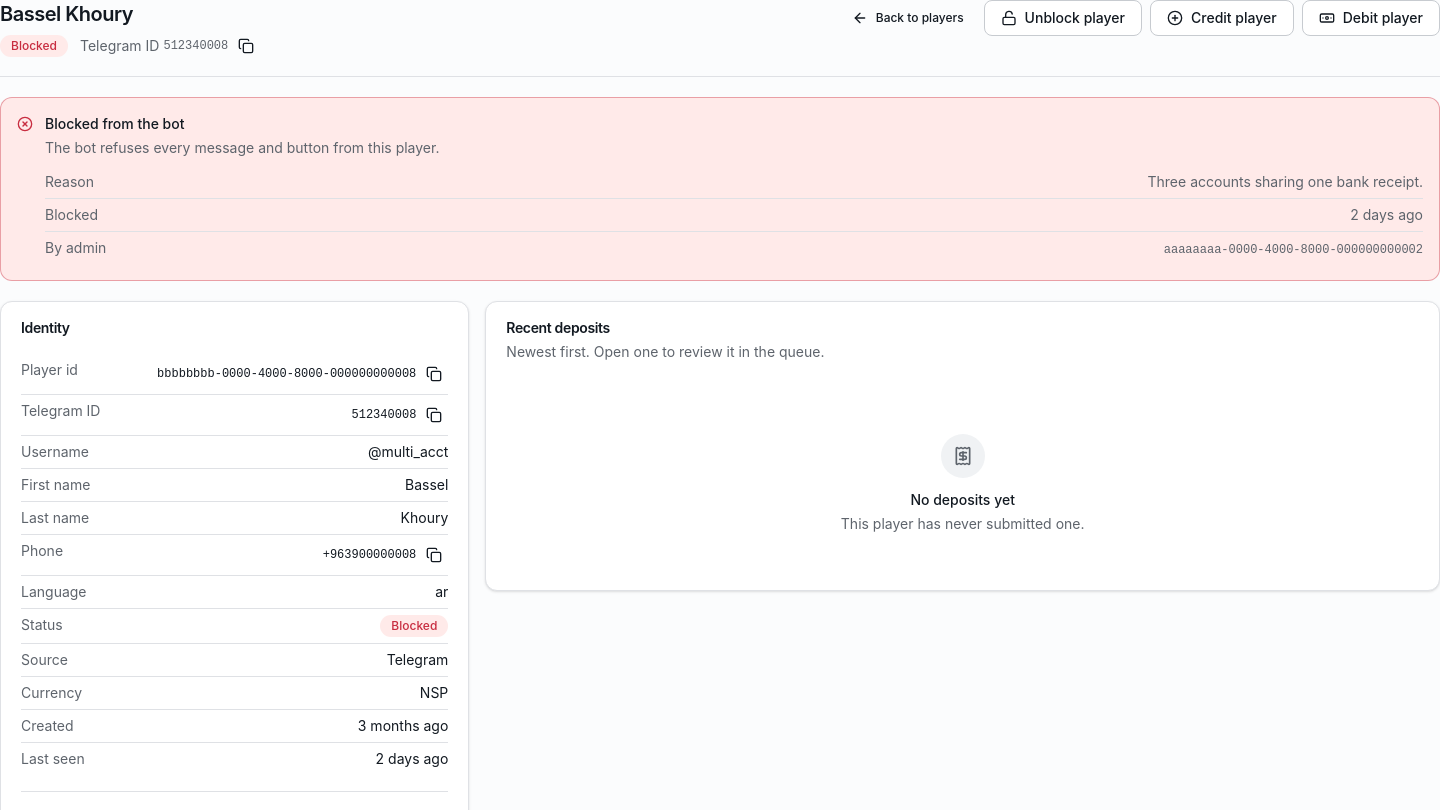
PlayerDetailPage: the operator’s lock › lifts the block from the header and the page follows
The width and height of the screenshot is (1440, 810).
Click the button "Unblock player" at (1063, 18), box [984, 0, 1142, 36]
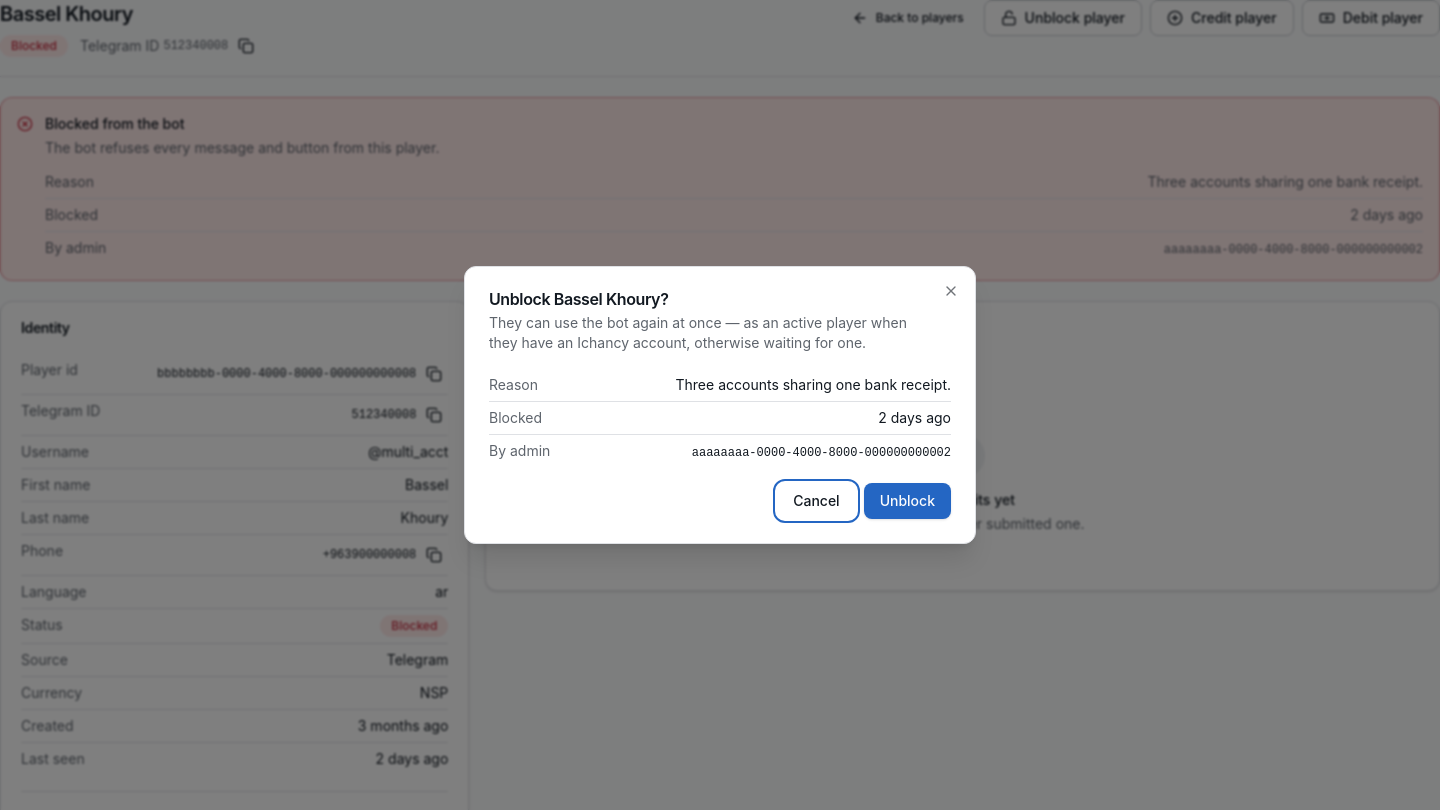
Click the button "Unblock" at (907, 501), box [864, 483, 951, 519]
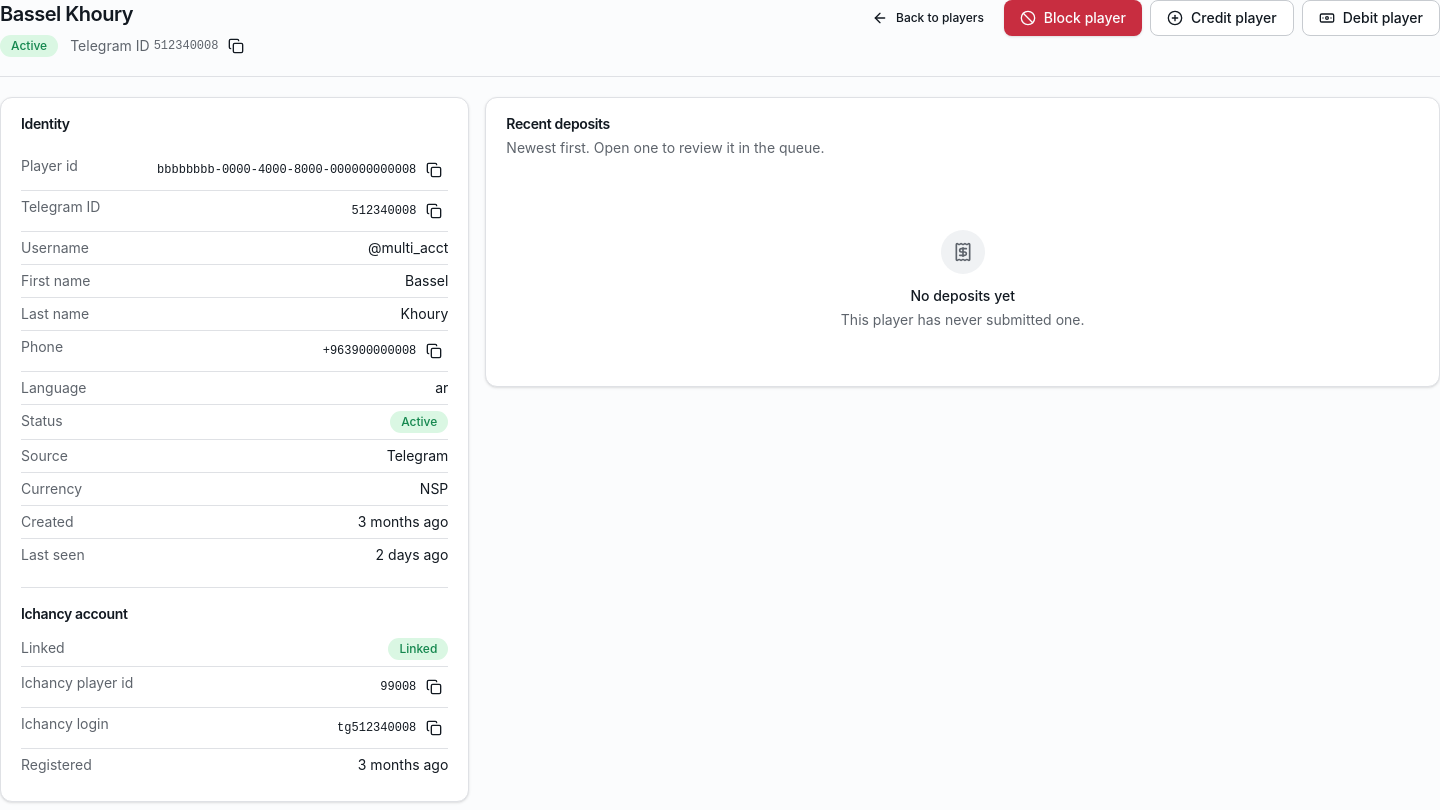
Expected: the button "Block player" is shown, [1004, 0, 1142, 36]
Expected: the message with test id "player-blocked-alert" is gone
Expected: the text "Active" below "Bassel Khoury" is shown, [11, 38, 47, 53]
